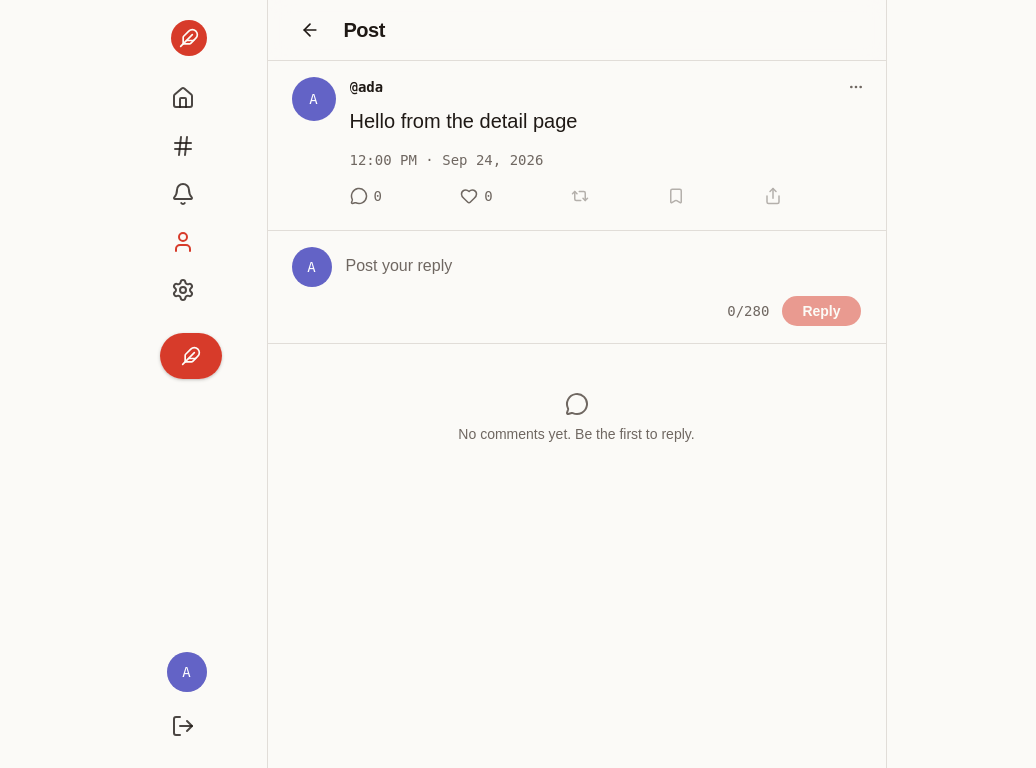
Test: PostDetail › back button › goes to the author's profile when the post was opened directly
Expected: the element that starts with "Post" is shown, [266,0,886,767]
Expected: the text "Hello from the detail page" is shown, [350,110,577,132]
Click the button named "Back".
click(310, 30)  # box [292,12,328,48]
(page scrolled)
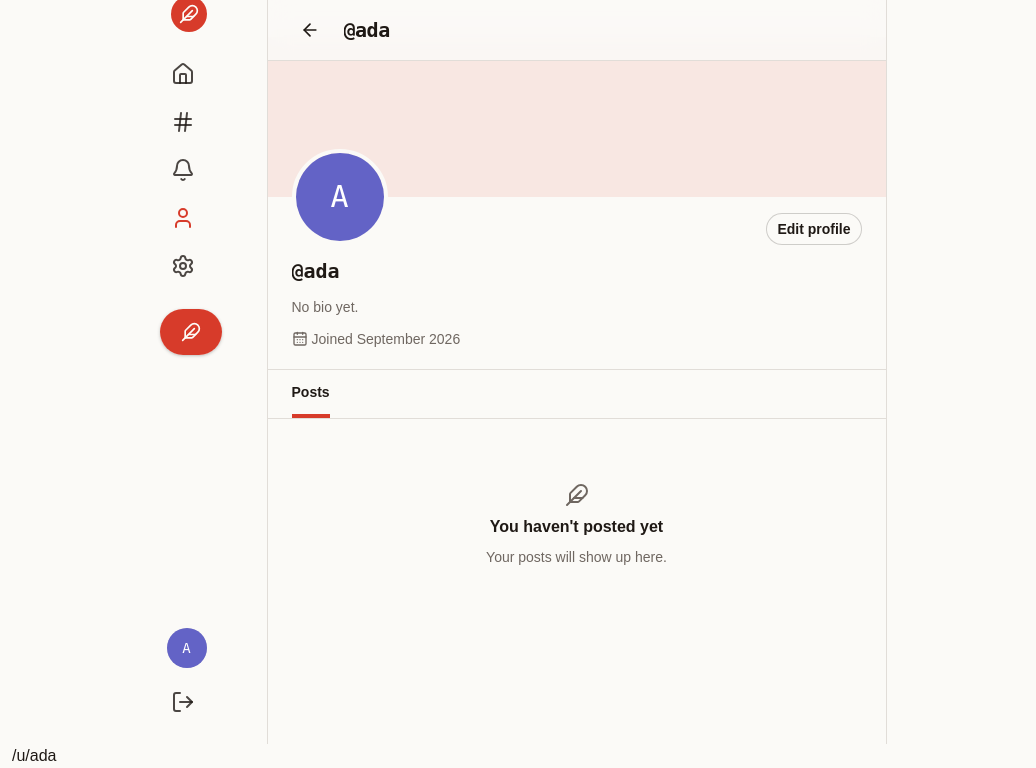
Now the text with test id "location" reads "/u/ada", box [12,747,56,764]
